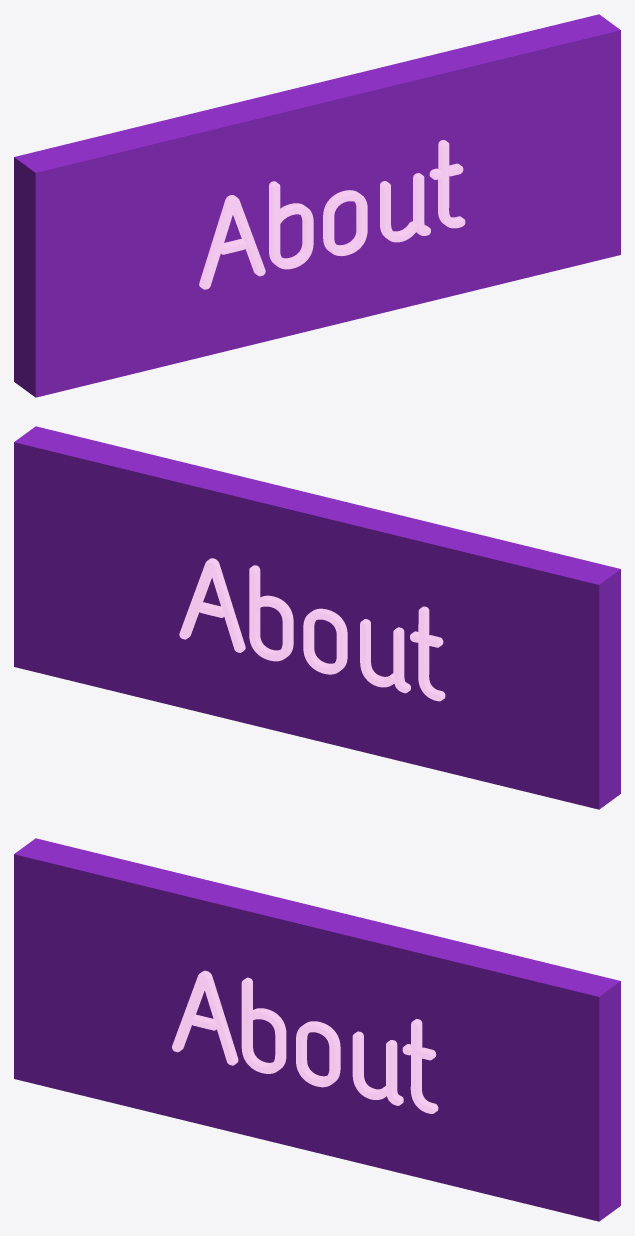
Rendered from about.glb.
3 views of the same model, one above another, from view 1: azimuth 30°, elevation 25°; view 2: azimuth 150°, elevation 25°; view 3: azimuth 330°, elevation 25° (orthographic).
Visible parts, largest first — view 1: Cube, Text; view 2: Cube, Text.001; view 3: Cube, Text.
Part boxes in pixels (x1,y1,x2,y2): Cube: (14,14,620,397); Text: (199,140,465,289); Cube: (14,426,620,809); Text.001: (179,558,445,701); Cube: (14,838,620,1221); Text: (172,970,438,1113).
Size of the model in its own units: 4.27 by 1.57 by 0.3854.
